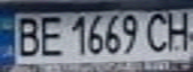1: (63, 12, 87, 56)
6: (84, 11, 109, 56), (103, 11, 124, 55)
9: (118, 11, 145, 55)
B: (9, 14, 42, 58)
C: (142, 11, 172, 54)
E: (36, 12, 66, 57)
H: (163, 9, 193, 53)
